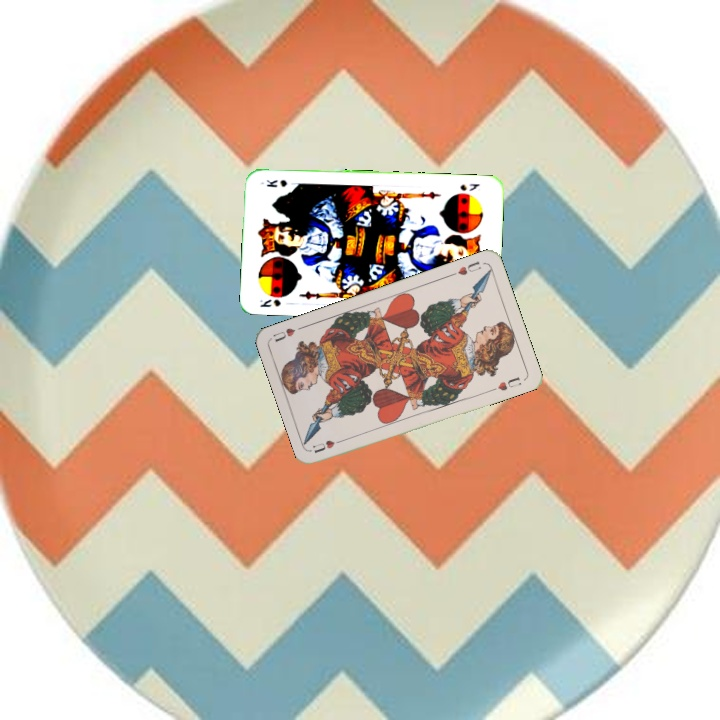HU: (309, 434, 348, 456), (447, 257, 484, 279)
SK: (256, 295, 283, 310), (456, 179, 482, 193)
